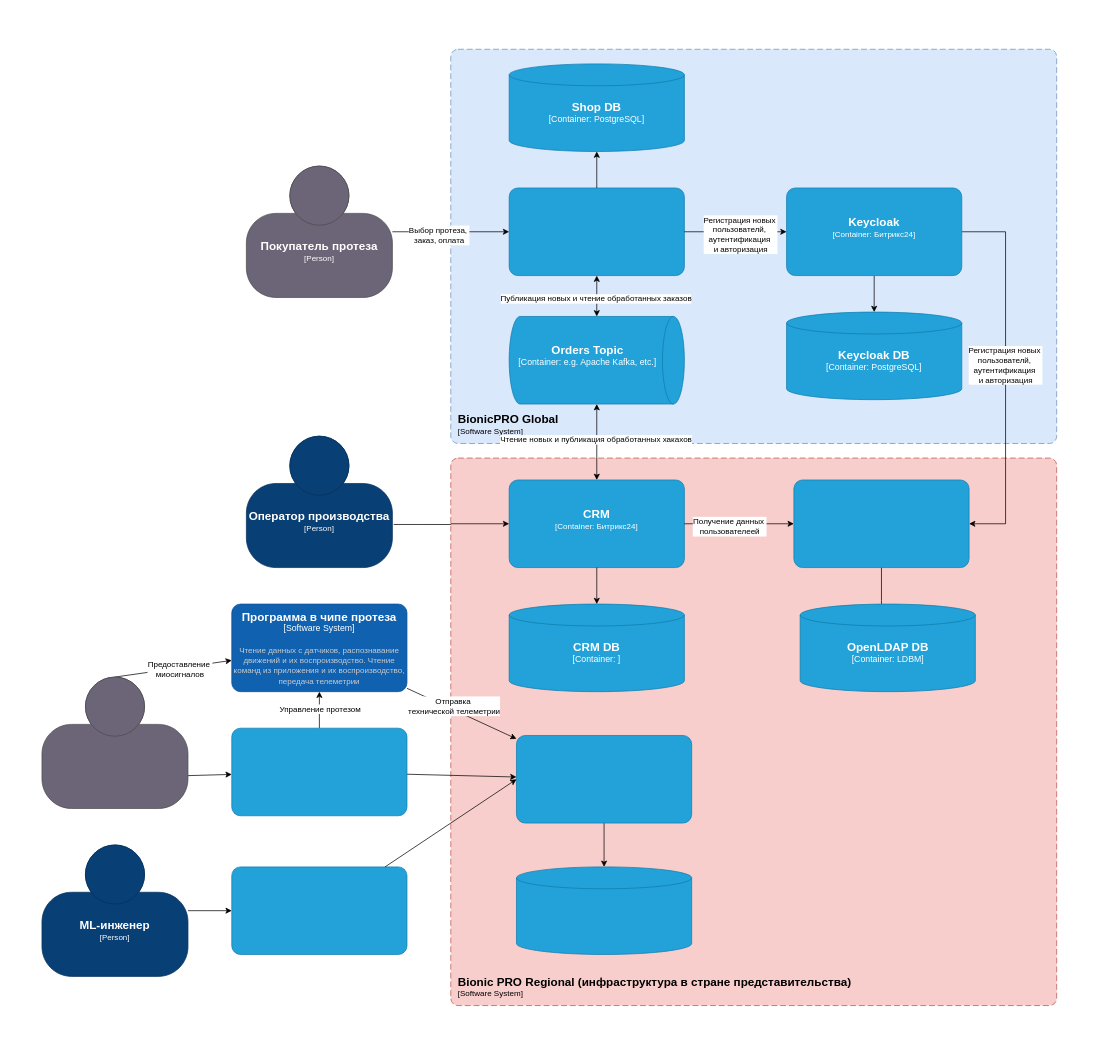
The diagram is 1105 pixels wide and 1061 high, and some of its shapes have lost their labels. Each missing label, with the box of its shape:
cli tool [Container: e.g. SpringBoot, ElasticSearch, etc.]: (231, 866, 407, 954)
OpenLDAP [Container: ]: (793, 479, 969, 568)
Shop (интернет-магазин) [Container: Битрикс24]: (508, 187, 684, 276)
Telemetry API [Container: e.g. SpringBoot, ElasticSearch, etc.]: (516, 735, 692, 823)
Telemetry DB [Container: PostgreSQL]: (516, 866, 692, 954)
Пилот протеза [Person] С этого человека считываются данные: (41, 676, 188, 808)
Приложение для донастройки протеза [Container: iOD, Android]: (231, 727, 407, 816)
